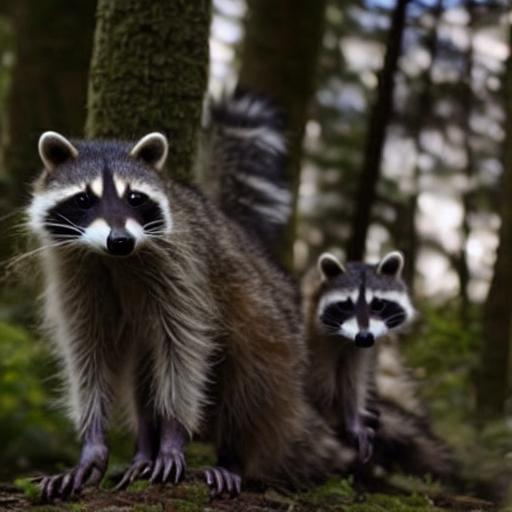raccoon: (17, 123, 315, 428), (290, 241, 428, 443)
